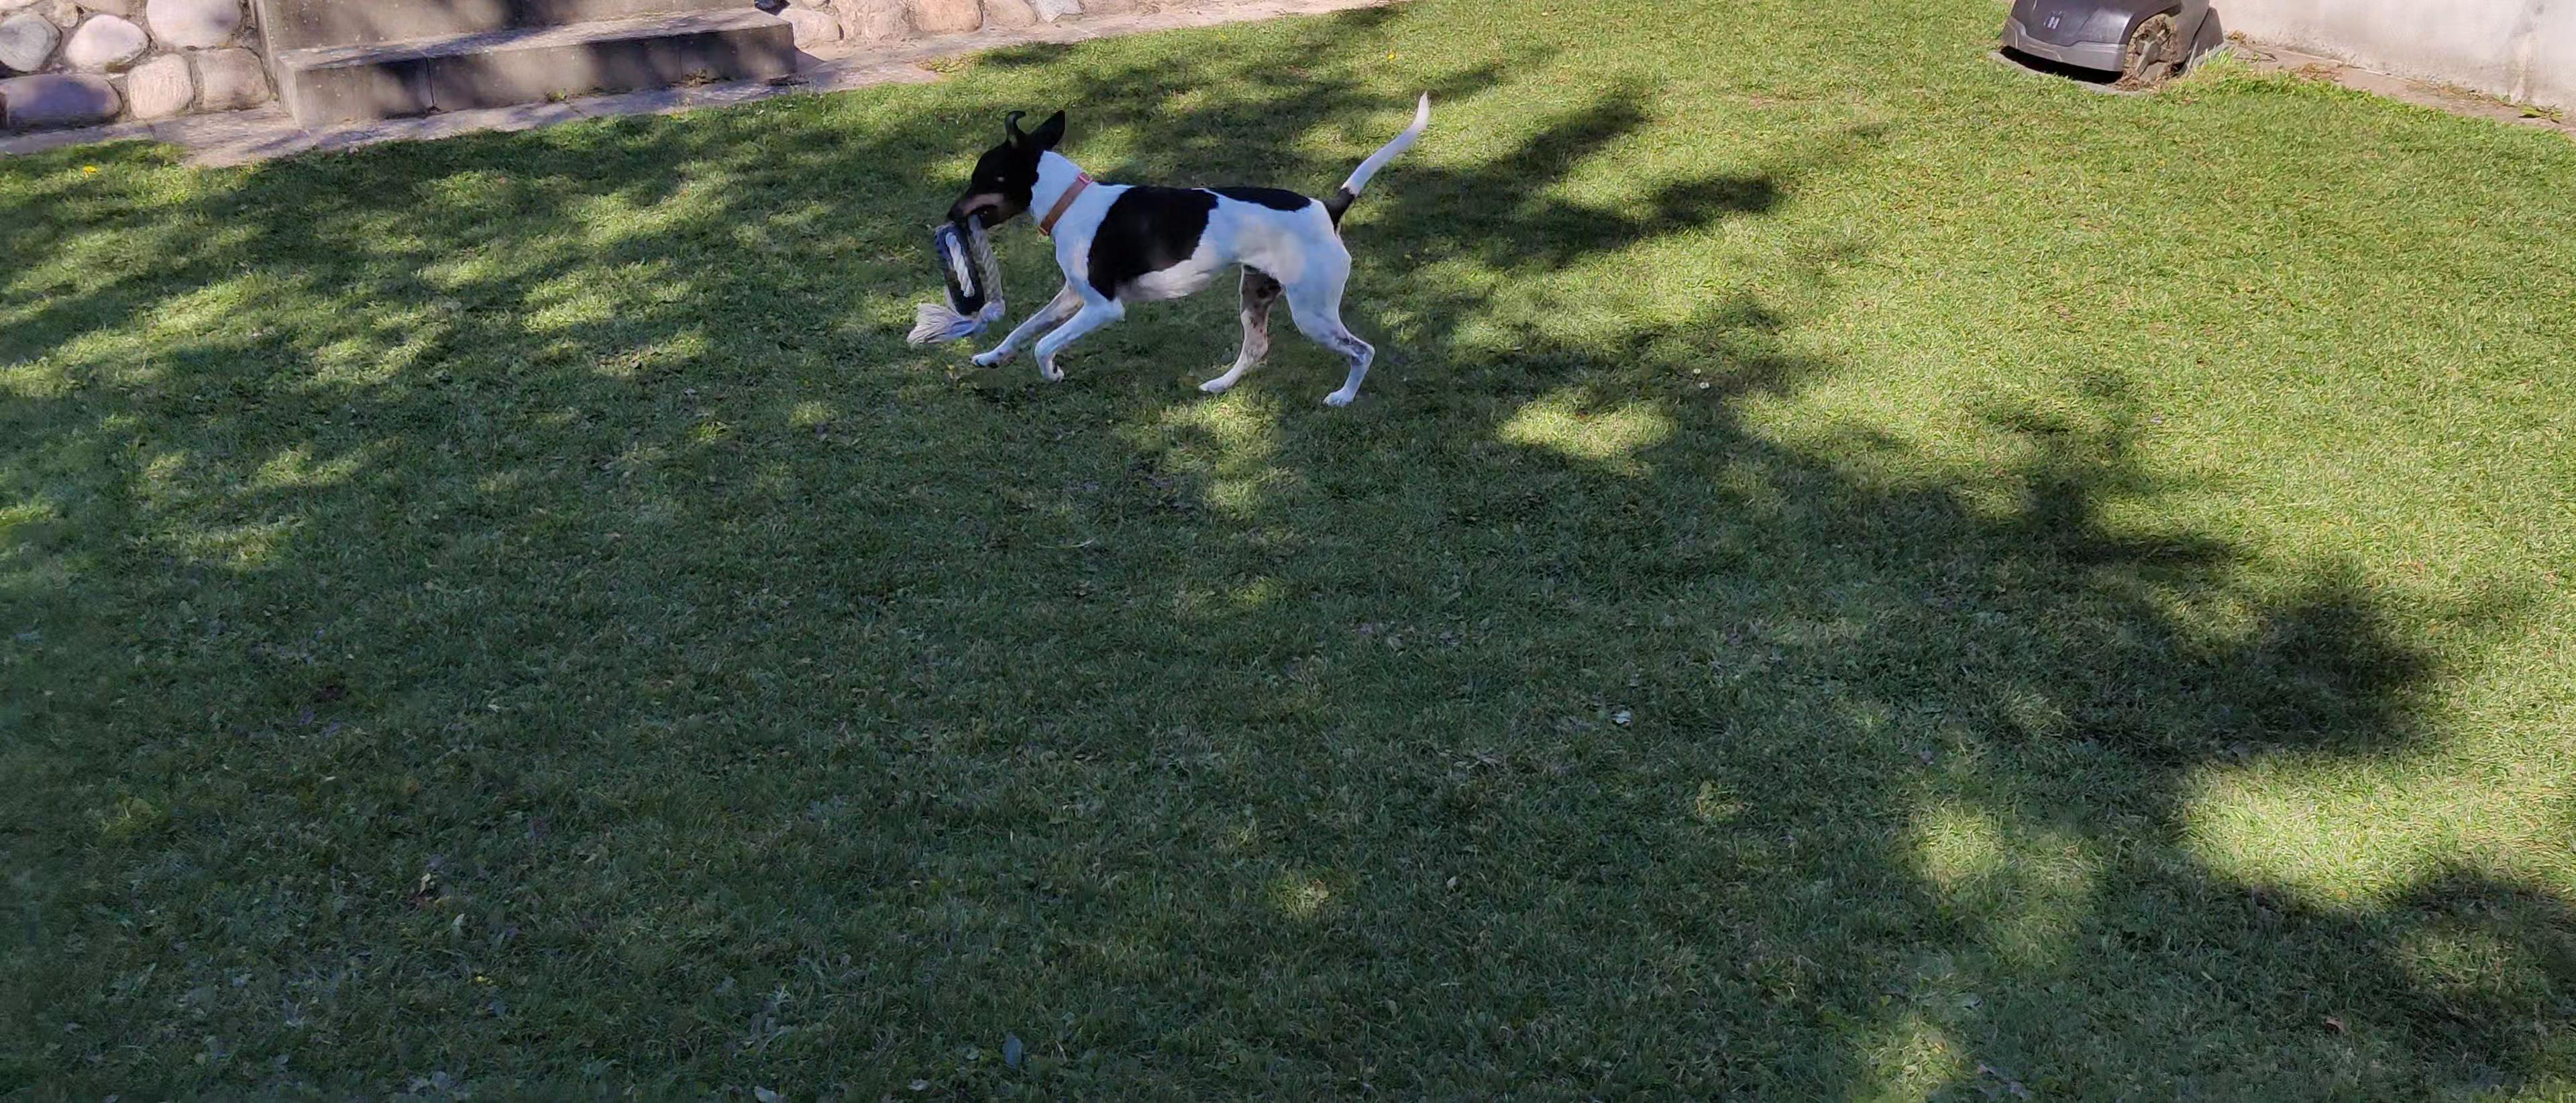Dog: (943, 84, 1433, 408)
